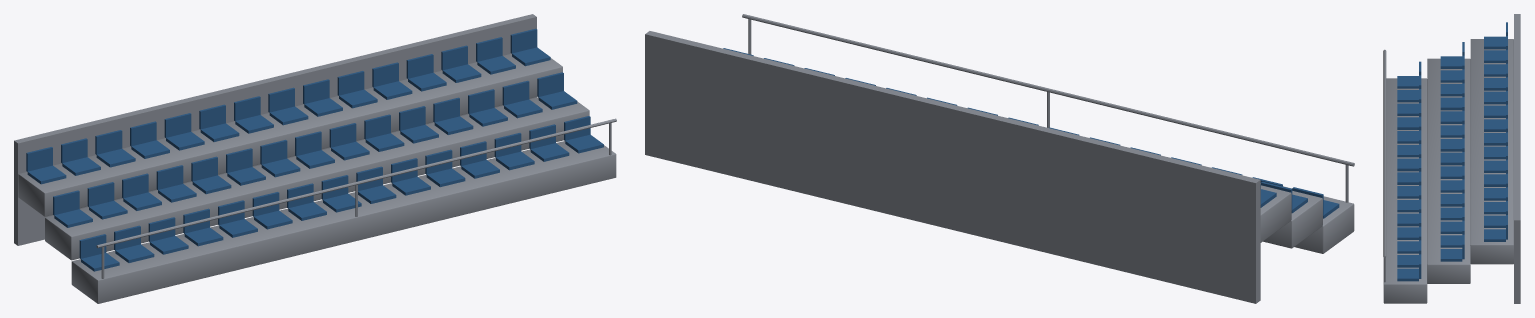
Rendered from arquibancada-90.glb.
3 views of the same model, side by side, from view 1: azimuth 30°, elevation 25°; view 2: azimuth 150°, elevation 25°; view 3: azimuth 270°, elevation 25° (orthographic). The views are drawn at different scales.
Visible parts, largest first — view 1: degrau, degrau.002, degrau.001, muro, corrimao, encosto.032, encosto.039, encosto.044, encosto.018, encosto.021, encosto.023, encosto.028 (+83 smaller); view 2: muro, corrimao, degrau, degrau.001, degrau.002; view 3: degrau.001, degrau.002, degrau, muro, corrimao, assento.018, assento.022, assento.026, assento.006, assento.010, assento.014, assento.030 (+38 smaller).
Part boxes in pixels (x1,y1,x2,y2): degrau: [71, 141, 616, 303]; degrau.002: [18, 53, 562, 216]; degrau.001: [45, 97, 589, 260]; muro: [14, 14, 536, 245]; corrimao: [96, 118, 616, 248]; encosto.032: [95, 130, 122, 154]; encosto.039: [337, 71, 364, 95]; encosto.044: [510, 28, 537, 53]; encosto.018: [156, 165, 183, 189]; encosto.021: [260, 139, 287, 164]; encosto.023: [329, 123, 356, 147]; encosto.028: [502, 80, 529, 105]; muro: [645, 31, 1260, 303]; corrimao: [742, 14, 1354, 166]; degrau: [1283, 186, 1354, 253]; degrau.001: [1263, 191, 1322, 248]; degrau.002: [1260, 185, 1291, 242]; degrau.001: [1427, 58, 1470, 283]; degrau.002: [1470, 39, 1513, 264]; degrau: [1383, 78, 1427, 303]; muro: [1514, 14, 1520, 303]; corrimao: [1383, 49, 1386, 258]; assento.018: [1440, 97, 1462, 110]; assento.022: [1440, 152, 1462, 165]; assento.026: [1440, 207, 1462, 220]; assento.006: [1397, 158, 1418, 171]; assento.010: [1397, 213, 1418, 226]; assento.014: [1397, 268, 1418, 281]; assento.030: [1484, 36, 1505, 49].
Bounding box in the file's own units: 9 × 1.7 × 2.52.
